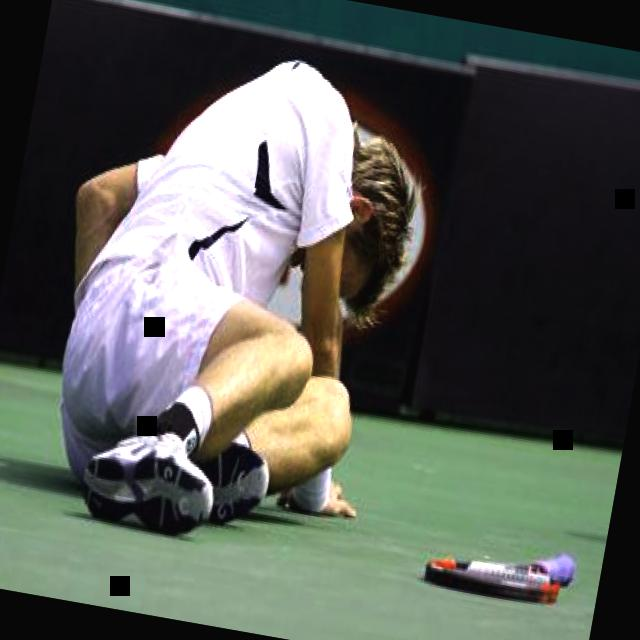Fall-Detected: (2, 4, 454, 566)
